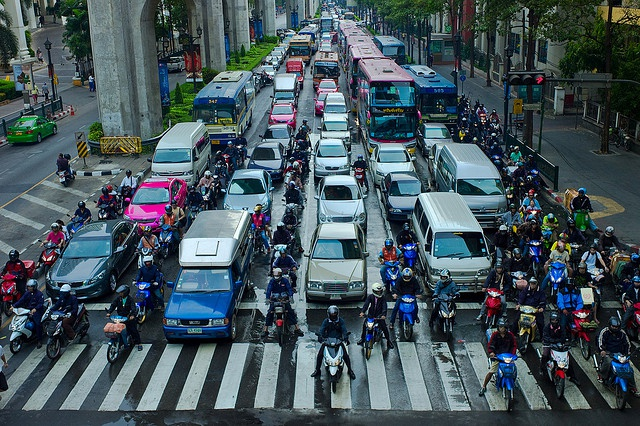non-vehicle: (485, 327, 526, 410), (592, 344, 639, 410), (8, 295, 52, 354), (535, 339, 578, 397), (45, 304, 90, 357), (315, 332, 351, 393), (104, 304, 141, 363), (430, 291, 460, 341), (263, 297, 294, 345), (545, 261, 567, 302), (397, 294, 417, 339), (58, 168, 77, 186), (509, 270, 527, 288)
